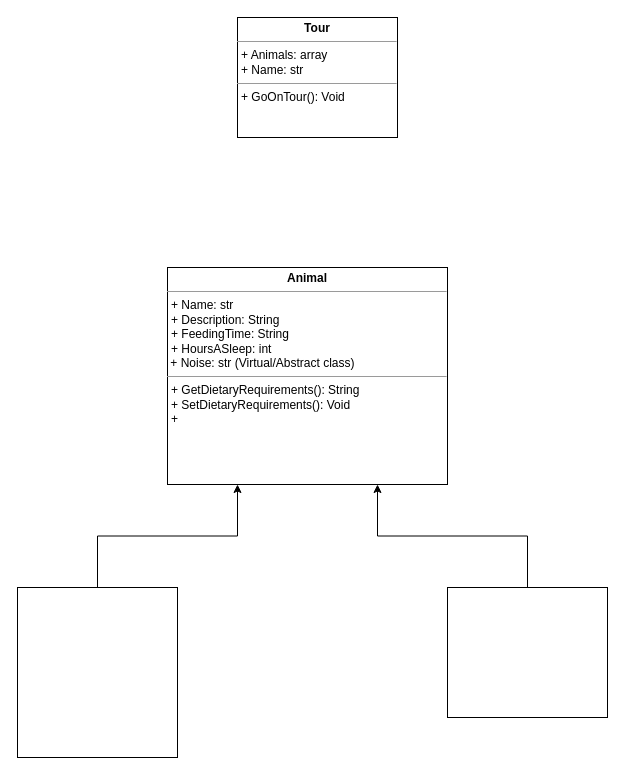
Image size: 625x775. Some labels were removed from this diagram. The centre of each missing label's shape, as x and y in pixels:
"Interactive + pet: String + feed: String + pet(): String + feed(): String" belongs at [97,672].
"Non interactive + + observe(): Void" belongs at [527,652].
